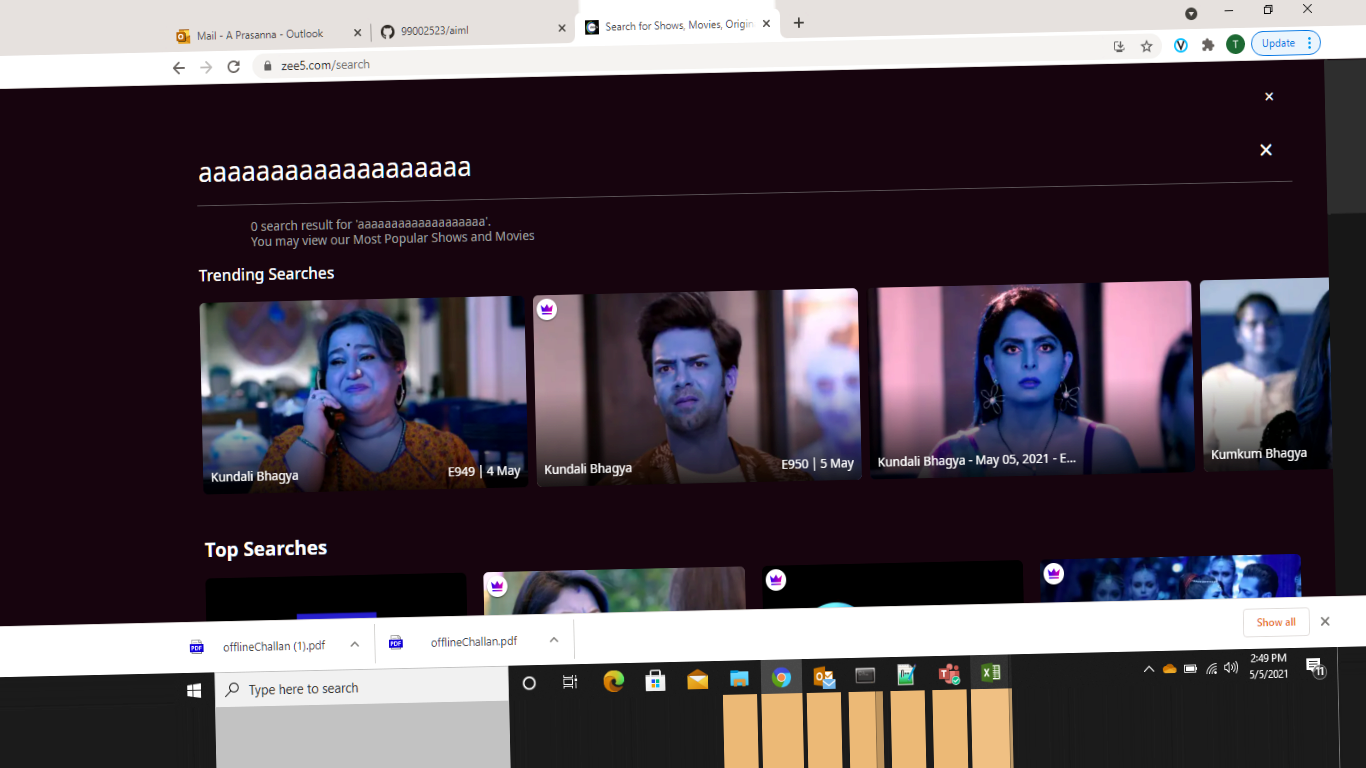noresultsfound: (233, 207, 538, 252)
searchtextbox: (183, 140, 1301, 207)
